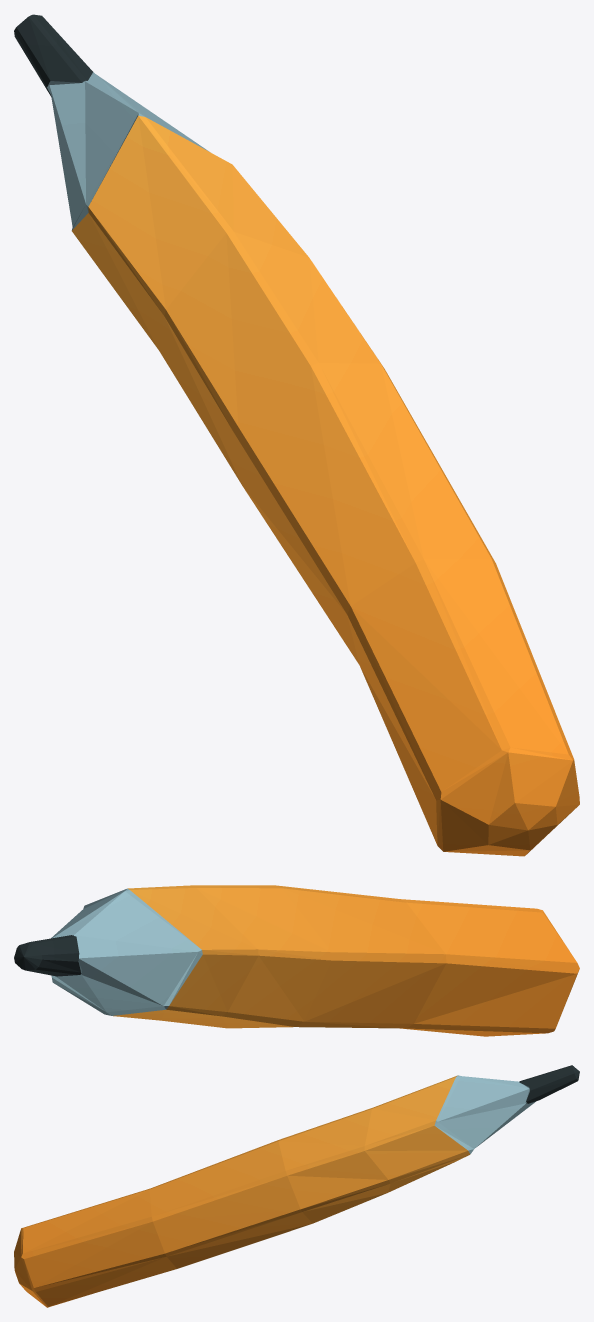
File: CharSkyKid_Horn_AP22Pencil.glb
The picture shows the model from 3 angles, top to bottom: view 1: azimuth 30°, elevation 25°; view 2: azimuth 150°, elevation 25°; view 3: azimuth 270°, elevation 25°; orthographic projection. The views are drawn at different scales.
Visible parts, largest first — view 1: CharSkyKid_Horn_AP22Pencil; view 2: CharSkyKid_Horn_AP22Pencil; view 3: CharSkyKid_Horn_AP22Pencil.
Boxes of the visible parts, x1=… form: CharSkyKid_Horn_AP22Pencil: x1=14, y1=14, x2=579, y2=856; CharSkyKid_Horn_AP22Pencil: x1=14, y1=885, x2=579, y2=1036; CharSkyKid_Horn_AP22Pencil: x1=14, y1=1065, x2=579, y2=1307.
Bounding box in the file's own units: 0.5824 × 1.29 × 2.69.
1 material, 1 textured.
